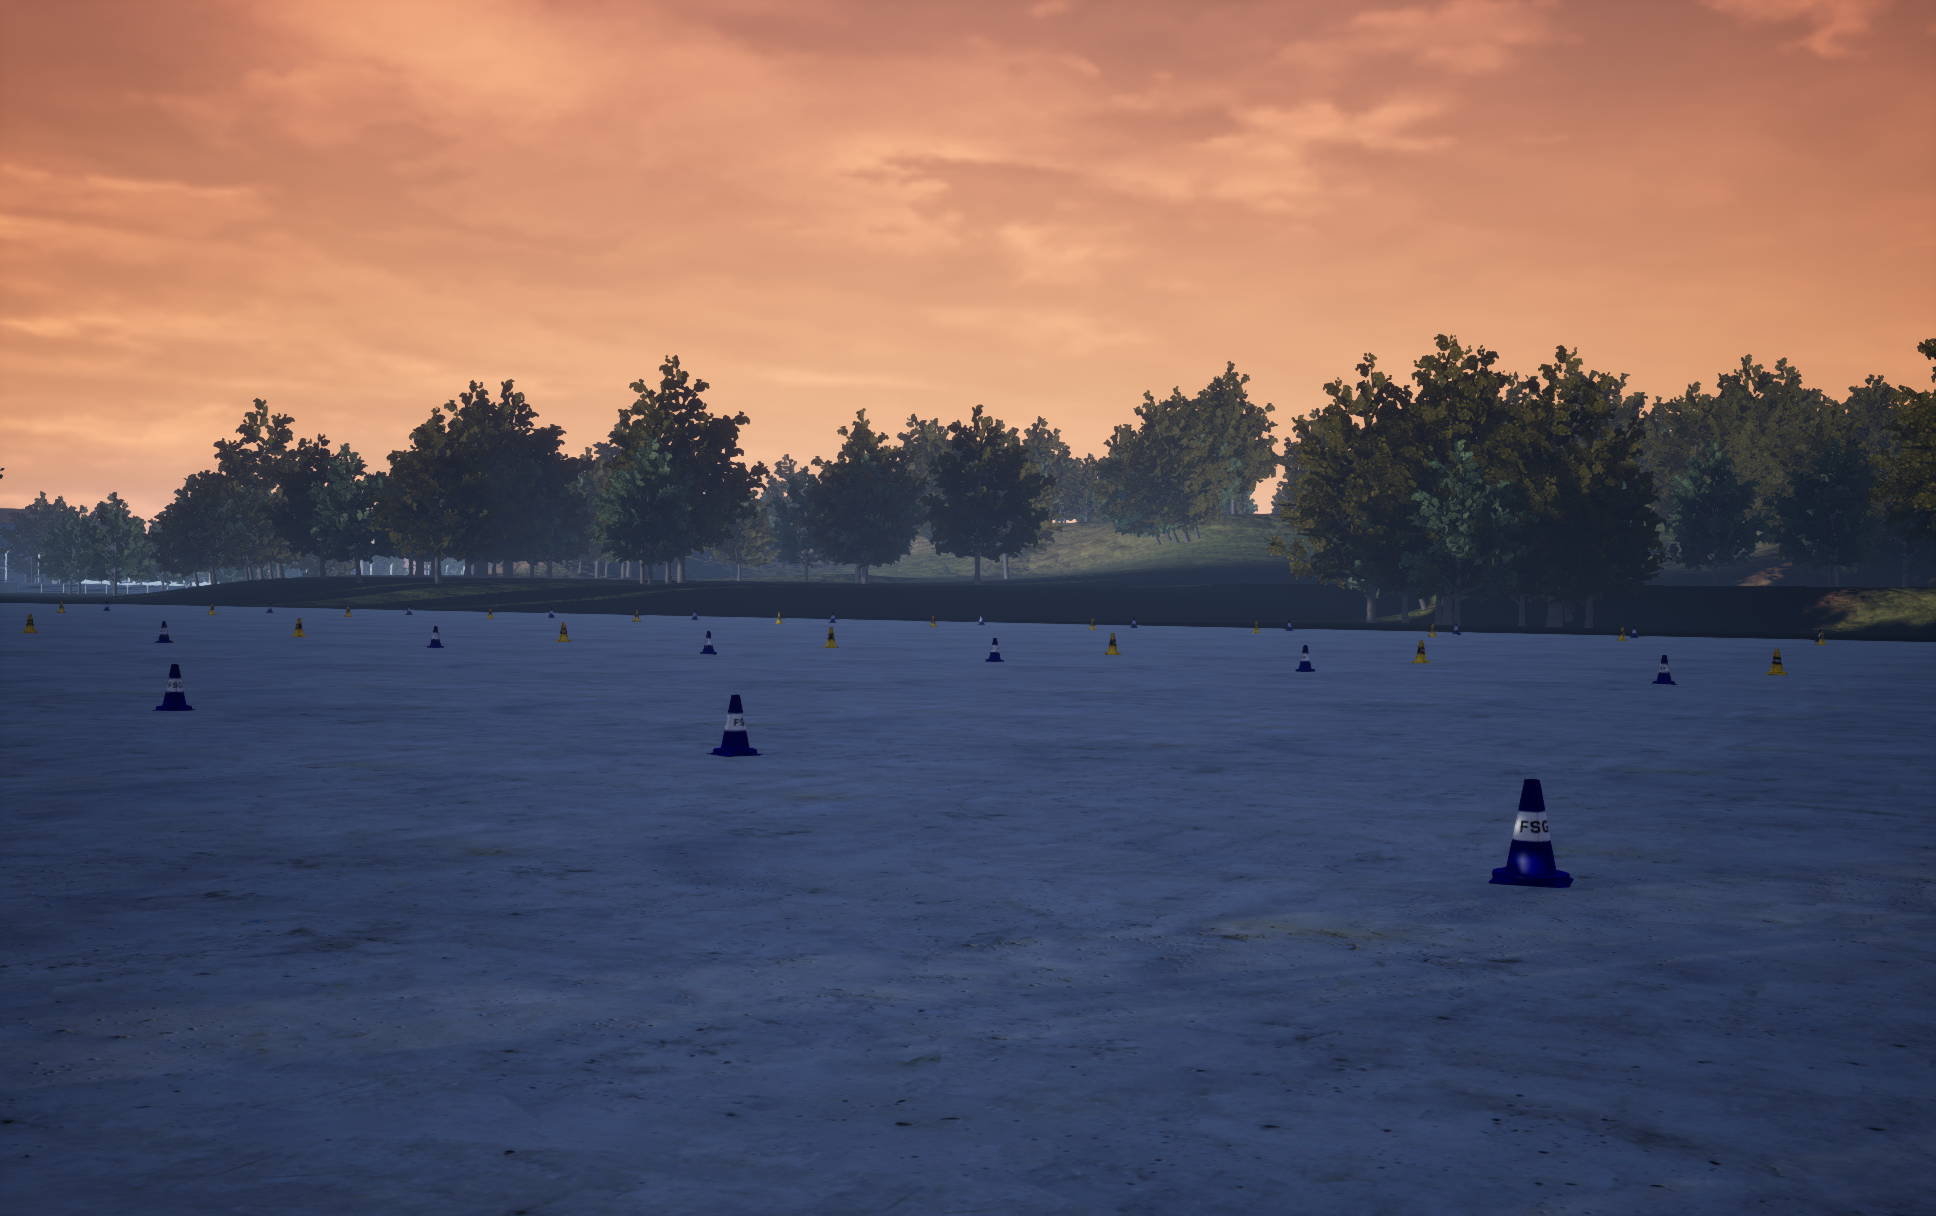blue: (1766, 649, 1786, 674), (1412, 640, 1429, 663), (1105, 633, 1121, 654), (822, 628, 838, 647), (556, 622, 572, 642), (291, 618, 305, 636)
yellow: (1488, 779, 1573, 887), (706, 693, 762, 756), (153, 664, 195, 710), (1652, 656, 1677, 684), (1294, 644, 1314, 671), (985, 637, 1003, 661), (154, 621, 172, 642), (700, 630, 716, 654), (427, 626, 443, 647)
